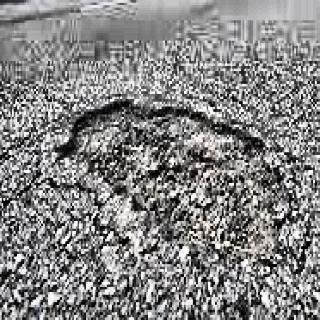crack: (0, 132, 134, 258)
pothole: (59, 99, 290, 274)
